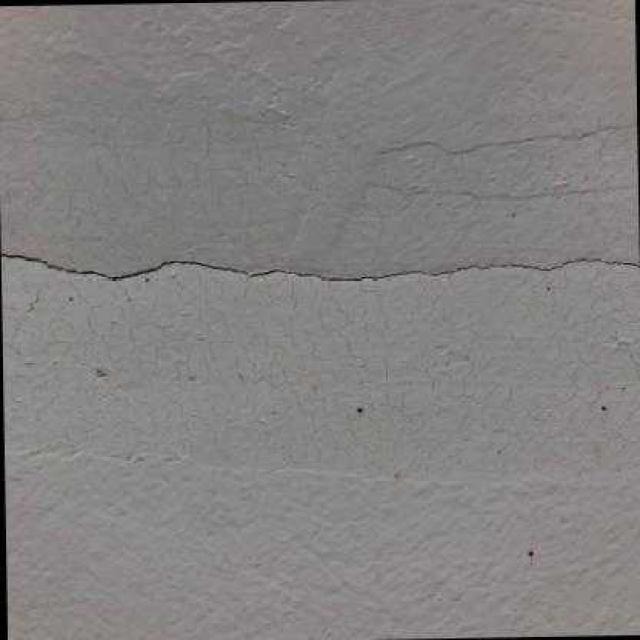D00: (0, 252, 635, 287)
